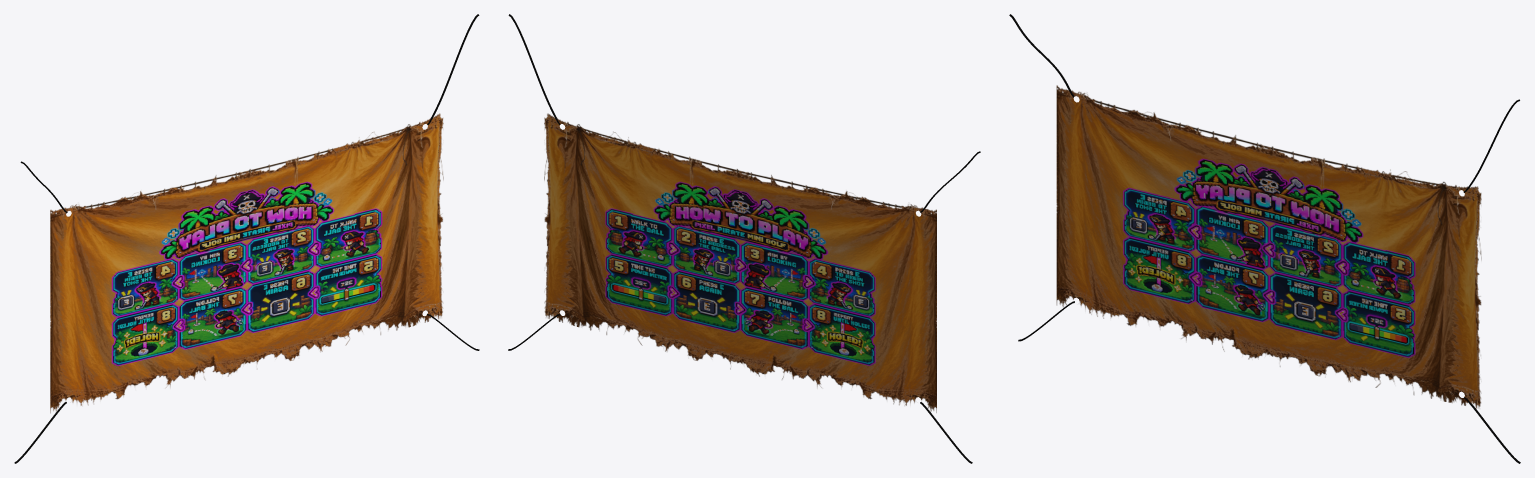
Rendered from Tutorial Desktop.glb.
The picture shows the model from 3 angles, left to right: view 1: azimuth 30°, elevation 25°; view 2: azimuth 150°, elevation 25°; view 3: azimuth 330°, elevation 25°; orthographic projection. The views are drawn at different scales.
Parts seen in each view (by area): view 1: Notice Board; view 2: Notice Board; view 3: Notice Board.
Part boxes in pixels (left/top/right/bottom): Notice Board: left=14, top=14, right=479, bottom=463; Notice Board: left=508, top=14, right=980, bottom=463; Notice Board: left=1009, top=14, right=1520, bottom=463.
Bounding box in the file's own units: 5.97 × 4.12 × 0.176.
Materials: 2 (1 with a texture image).
